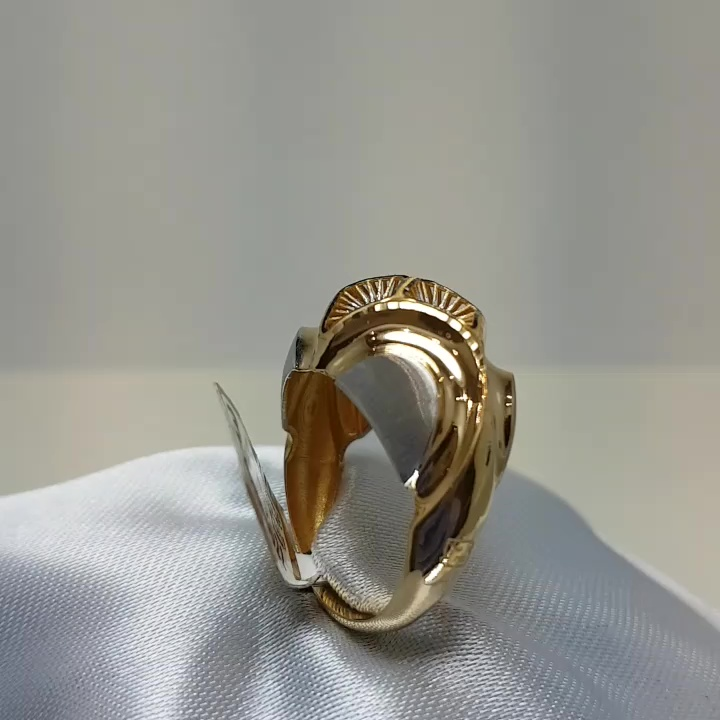Ring 2: (210, 243, 527, 672)
